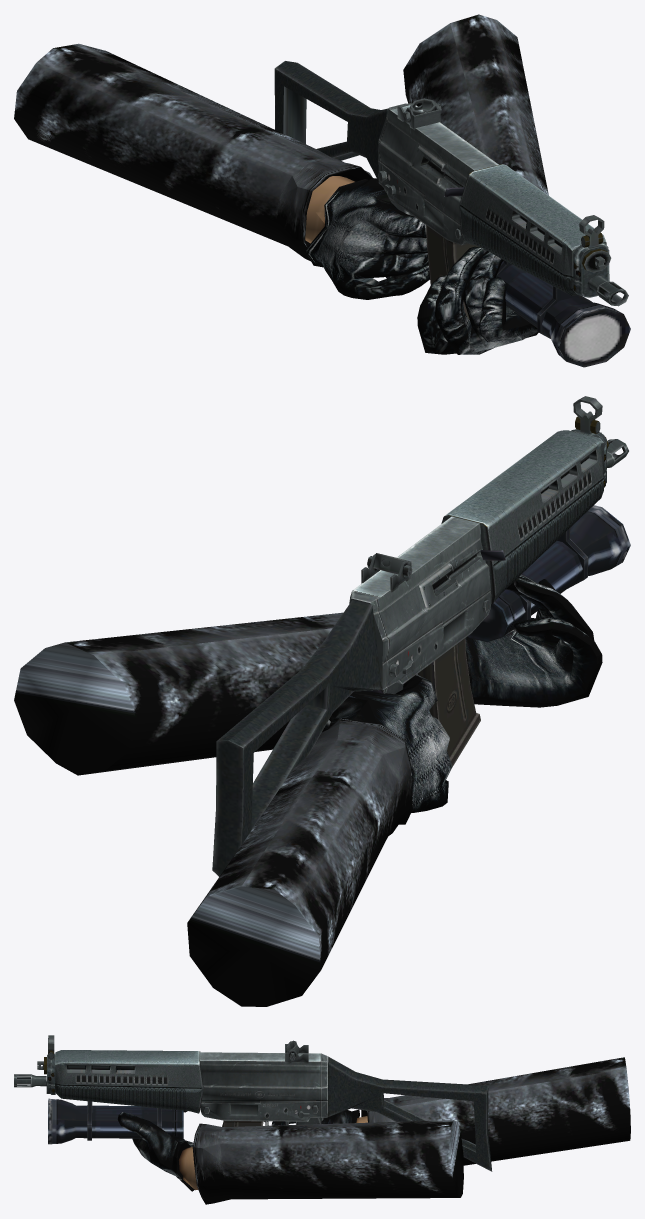
The model's file is sig.FBX.
3 views of the same model, one above another, from view 1: azimuth 30°, elevation 25°; view 2: azimuth 150°, elevation 25°; view 3: azimuth 270°, elevation 25° (orthographic). The views are drawn at different scales.
Visible parts, largest first — view 1: sig; view 2: sig; view 3: sig.
Part boxes in pixels (bbox=[...]): sig: bbox=[14, 14, 630, 367]; sig: bbox=[14, 396, 630, 1006]; sig: bbox=[14, 1035, 630, 1204].
Size of the model in its own units: 13.29 by 25.99 by 7.2.
